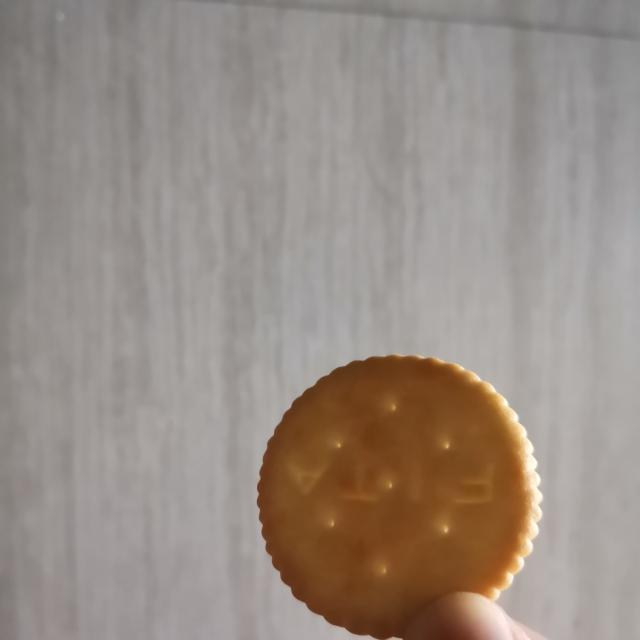Intact: (240, 345, 553, 640)
